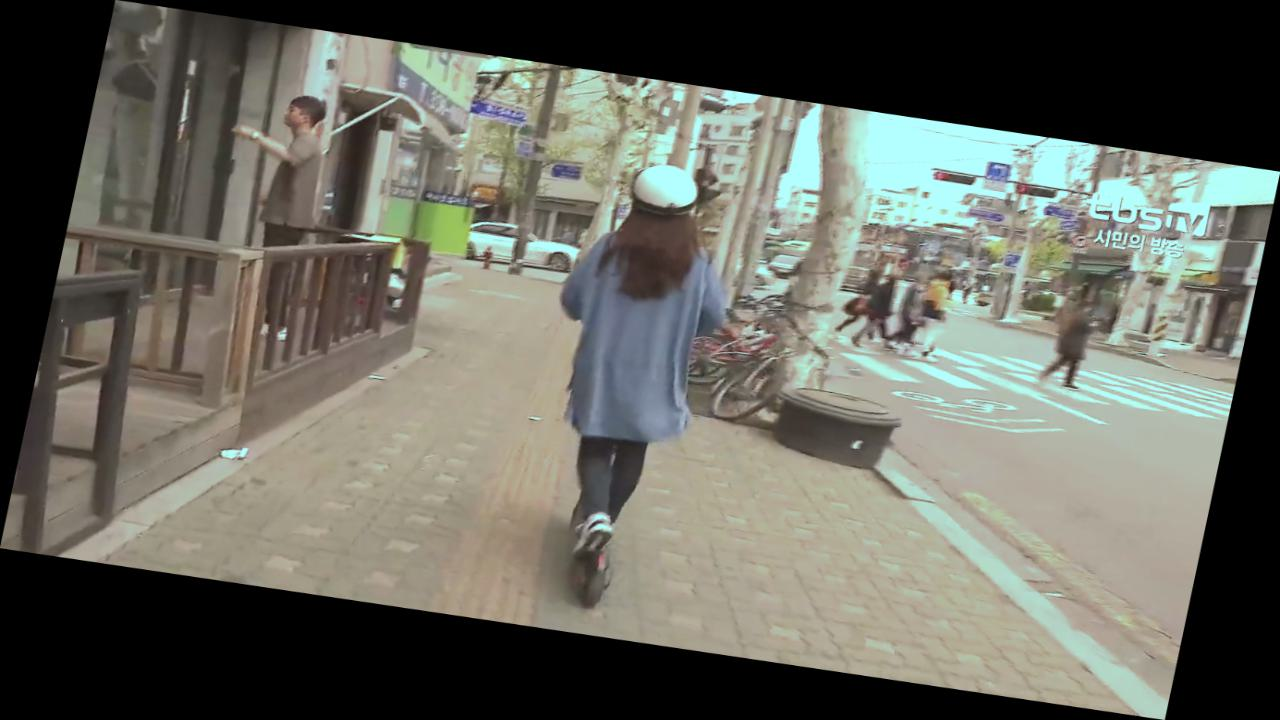helmet: (496, 152, 758, 624)
